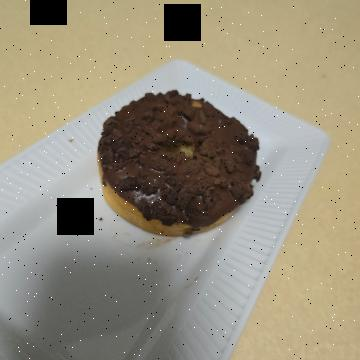doughnut: (76, 75, 253, 274)
